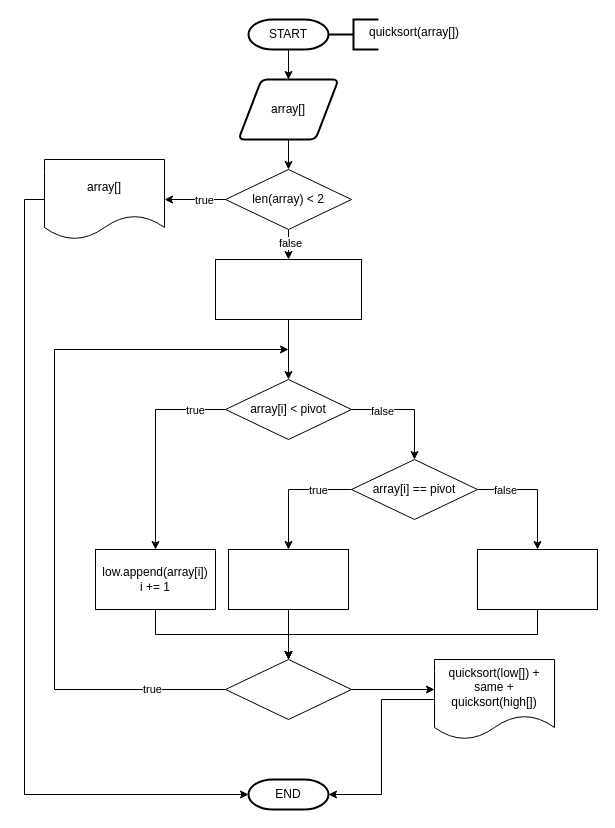
Some shapes in this 615 by 828 pixel diagram are drawn without their labels. The shapes that lost their labels are listed below. From the top down, each one's centre as x and y in pixels, then its label:
At (x=288, y=289): "low[], same[], high[], pivot = array[random] i = 0".
At (x=288, y=579): "same.append(array[i]) i += 1".
At (x=537, y=579): "high.append(array[i]) i += 1".
At (x=288, y=689): "i < len(array)".
